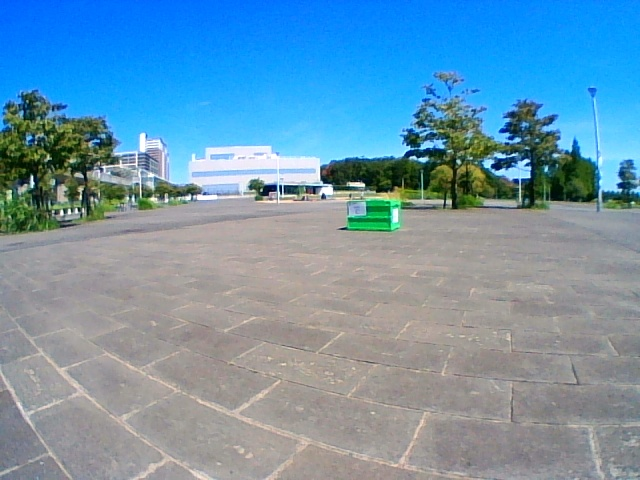green_box: (348, 199, 399, 232)
tag: (349, 203, 365, 215)
